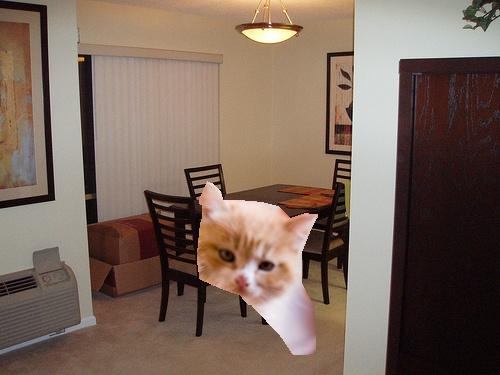tampered: (198, 182, 318, 355)
